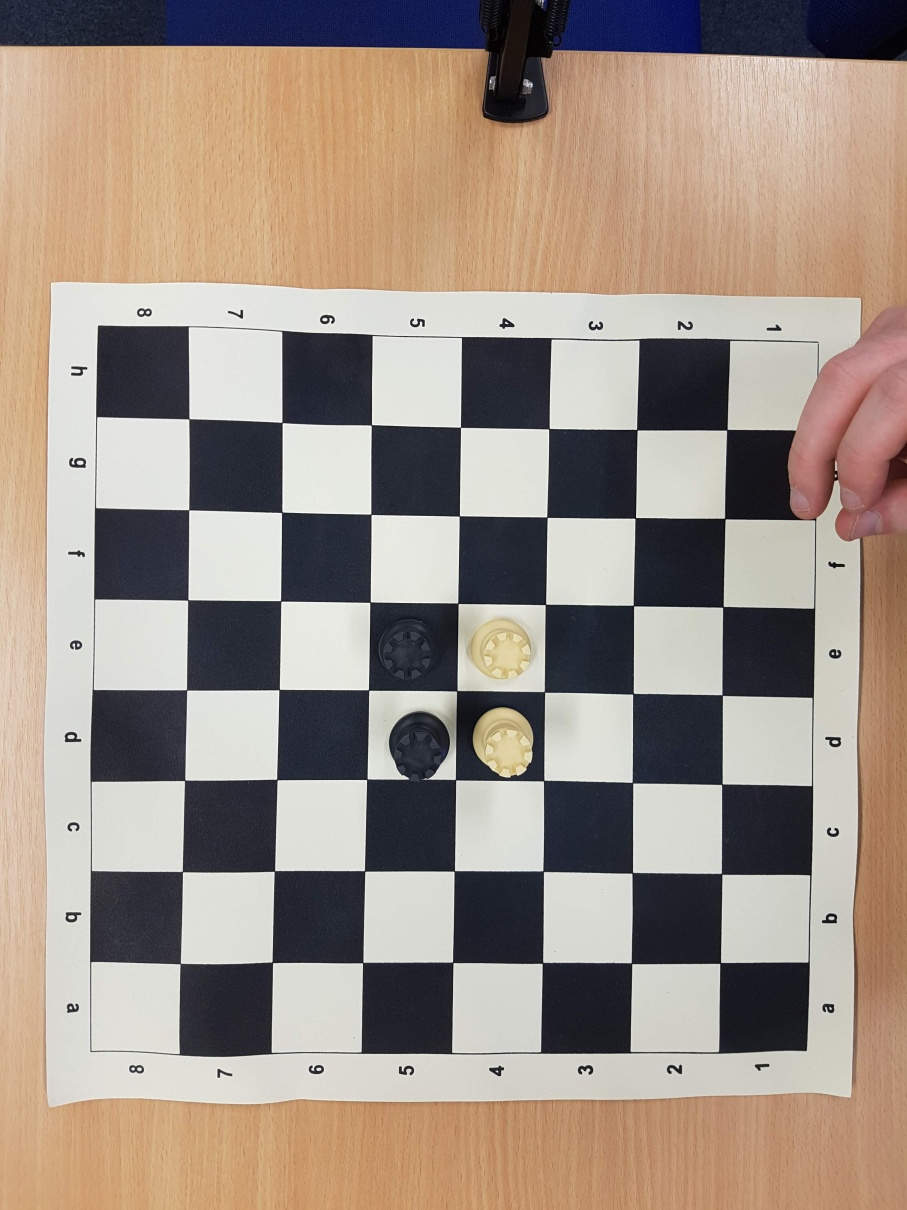chess_rook: (473, 707, 534, 779), (388, 710, 450, 780), (470, 619, 531, 679), (378, 618, 436, 679)
